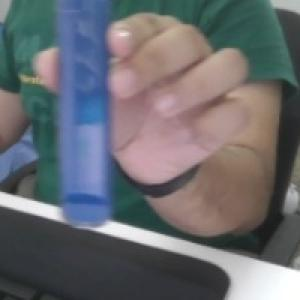Diamond-E-Ciggirate: (57, 0, 114, 230)
